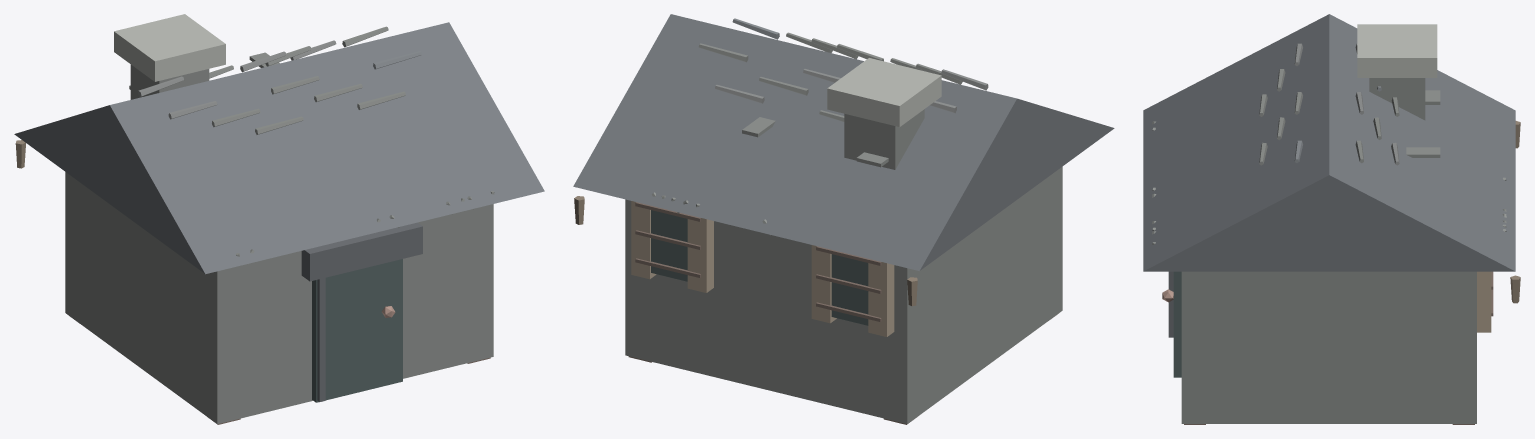
Rendered from abandoned_guard_post.glb.
3 renders of one model, left to right at view 1: azimuth 30°, elevation 25°; view 2: azimuth 150°, elevation 25°; view 3: azimuth 270°, elevation 25°, orthographic. The views are drawn at different scales.
Parts seen in each view (by area): view 1: abandoned_guard_post_material_06, abandoned_guard_post_material_00, abandoned_guard_post_material_02, abandoned_guard_post_material_10, abandoned_guard_post_material_03, abandoned_guard_post_material_07; view 2: abandoned_guard_post_material_06, abandoned_guard_post_material_00, abandoned_guard_post_material_05, abandoned_guard_post_material_10, abandoned_guard_post_material_02, abandoned_guard_post_material_01, abandoned_guard_post_material_07, abandoned_guard_post_material_09; view 3: abandoned_guard_post_material_06, abandoned_guard_post_material_00, abandoned_guard_post_material_10, abandoned_guard_post_material_02, abandoned_guard_post_material_05, abandoned_guard_post_material_07, abandoned_guard_post_material_09.
Part boxes in pixels (bbox=[...]): abandoned_guard_post_material_06: bbox=[14, 22, 544, 274]; abandoned_guard_post_material_00: bbox=[65, 26, 494, 423]; abandoned_guard_post_material_02: bbox=[312, 259, 402, 402]; abandoned_guard_post_material_10: bbox=[114, 14, 225, 81]; abandoned_guard_post_material_03: bbox=[301, 222, 422, 402]; abandoned_guard_post_material_07: bbox=[138, 40, 336, 119]; abandoned_guard_post_material_06: bbox=[573, 14, 1114, 270]; abandoned_guard_post_material_00: bbox=[625, 32, 1062, 423]; abandoned_guard_post_material_05: bbox=[631, 201, 894, 336]; abandoned_guard_post_material_10: bbox=[827, 58, 941, 126]; abandoned_guard_post_material_02: bbox=[651, 210, 868, 325]; abandoned_guard_post_material_01: bbox=[628, 202, 1057, 424]; abandoned_guard_post_material_07: bbox=[715, 69, 988, 113]; abandoned_guard_post_material_09: bbox=[574, 196, 917, 306]; abandoned_guard_post_material_06: bbox=[1143, 14, 1515, 271]; abandoned_guard_post_material_00: bbox=[1152, 69, 1506, 423]; abandoned_guard_post_material_10: bbox=[1357, 24, 1437, 77]; abandoned_guard_post_material_02: bbox=[1173, 271, 1181, 377]; abandoned_guard_post_material_05: bbox=[1477, 271, 1491, 332]; abandoned_guard_post_material_07: bbox=[1294, 43, 1399, 165]; abandoned_guard_post_material_09: bbox=[1510, 121, 1520, 303].
Size of the model in its own units: 2.58 by 2.12 by 2.56.
